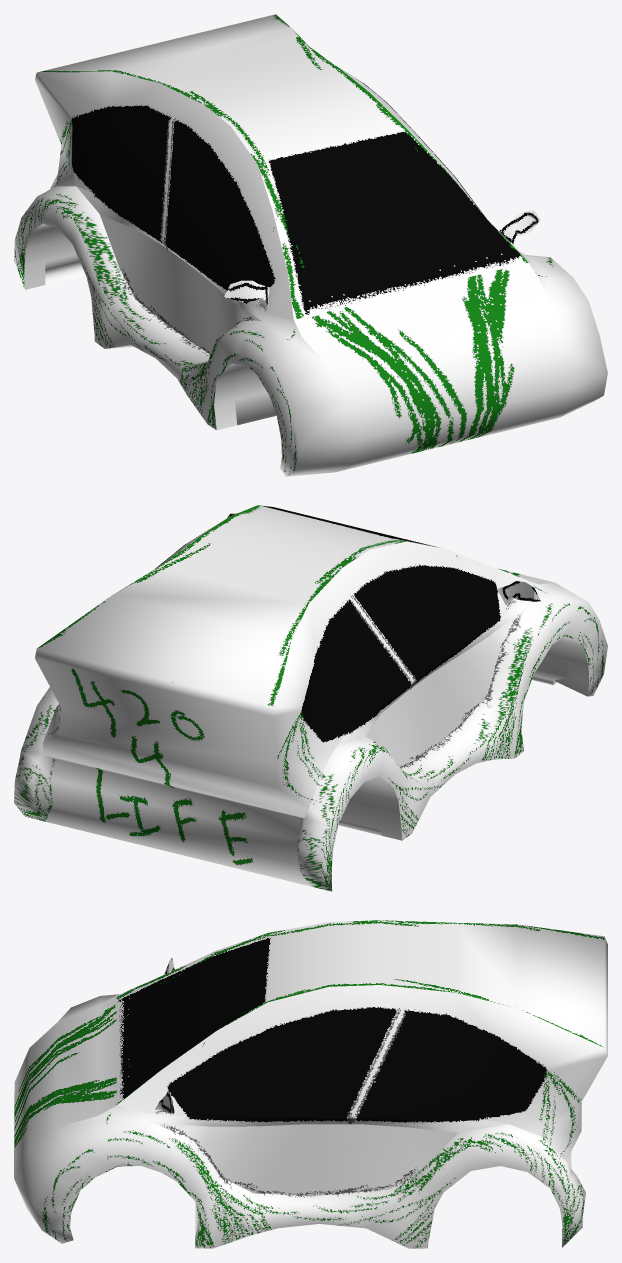
Rendered from car-small-body-mesh.FBX.
3 views of the same model, one above another, from view 1: azimuth 30°, elevation 25°; view 2: azimuth 150°, elevation 25°; view 3: azimuth 270°, elevation 25° (orthographic). The views are drawn at different scales.
Visible parts, largest first — view 1: car; view 2: car; view 3: car.
Part boxes in pixels (x1,y1,x2,y2): car: [14, 14, 607, 476]; car: [14, 505, 607, 891]; car: [14, 920, 607, 1248].
Bounding box in the file's own units: 1.45 × 1.02 × 2.46.
Materials: 1 (1 with a texture image).
